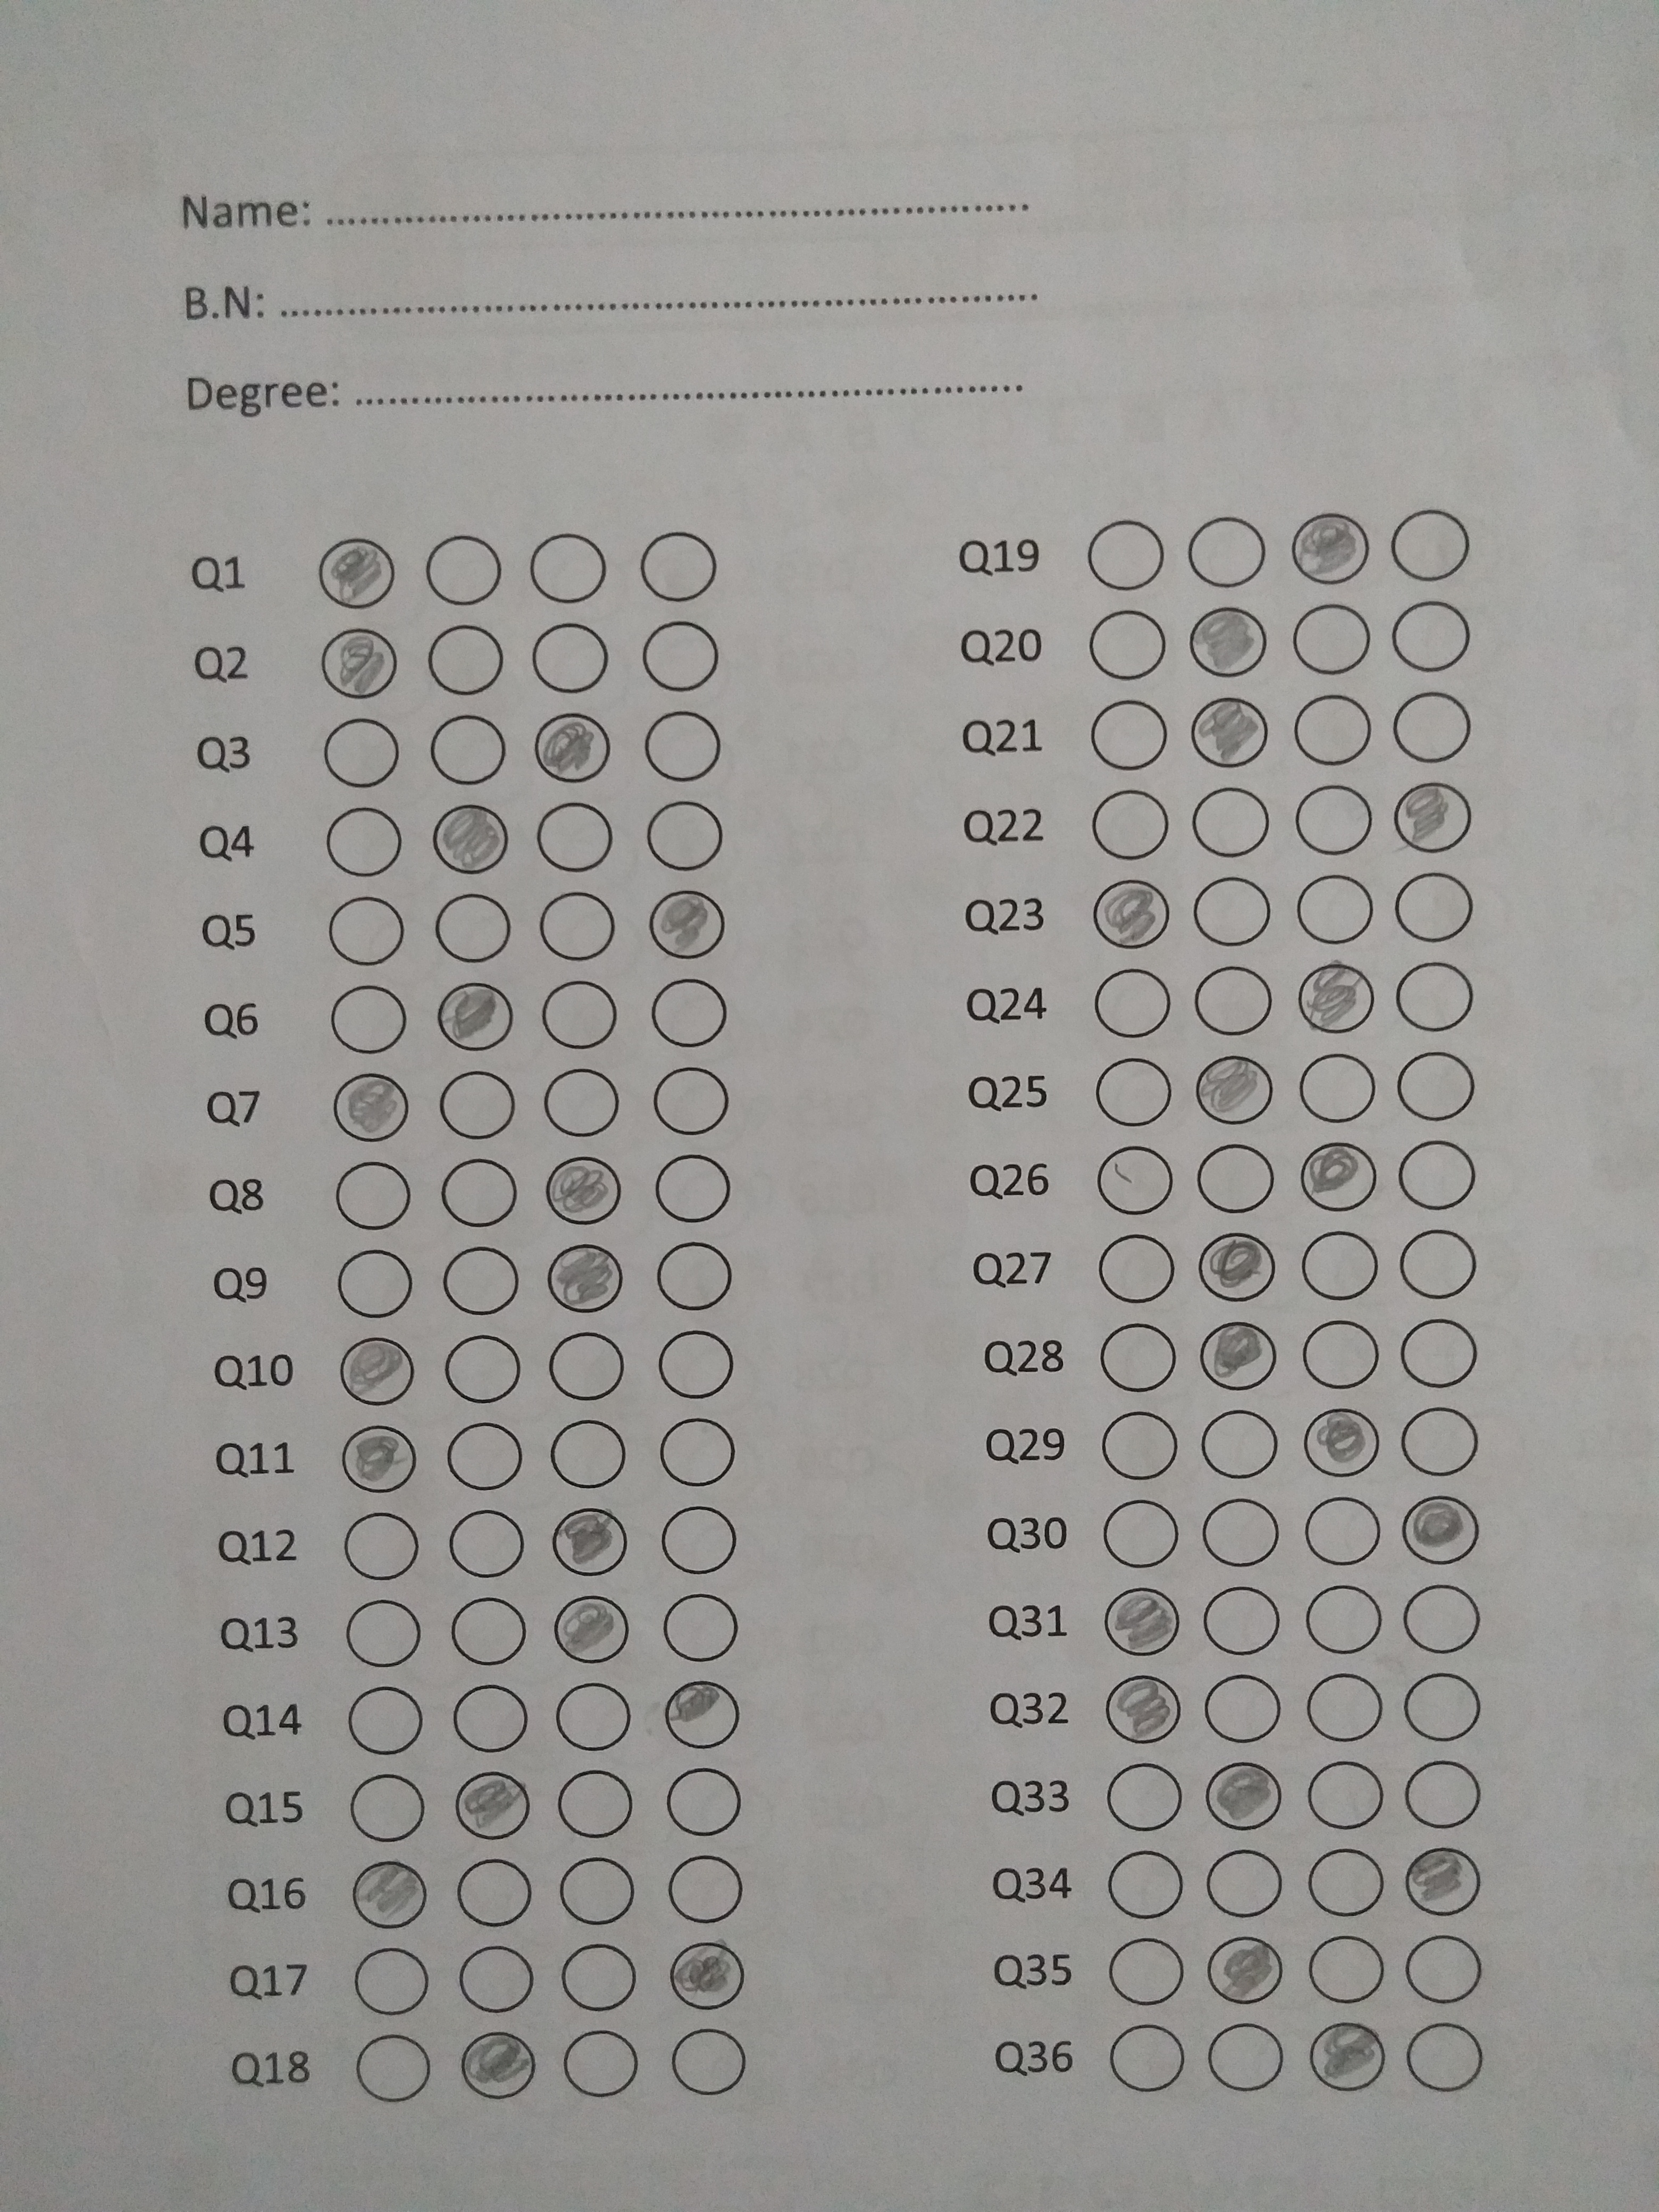not-c: (423, 531, 509, 611), (1387, 505, 1473, 585), (552, 1672, 638, 1752), (443, 1590, 528, 1670), (657, 1500, 742, 1580), (551, 1414, 636, 1494), (443, 1507, 528, 1587), (650, 1414, 735, 1494), (652, 1325, 737, 1406), (439, 1334, 525, 1414), (350, 1946, 436, 2026), (650, 1235, 735, 1315), (439, 1153, 525, 1233), (436, 1064, 521, 1144), (340, 1681, 425, 1761), (338, 1597, 423, 1677), (336, 1508, 422, 1588), (647, 972, 732, 1052), (538, 977, 624, 1057), (537, 887, 622, 967), (434, 885, 519, 965), (641, 709, 727, 789), (425, 707, 511, 787), (638, 617, 723, 697), (530, 618, 615, 698), (331, 1247, 416, 1327), (324, 981, 410, 1061), (321, 711, 406, 791), (634, 528, 720, 608), (526, 529, 612, 610), (1305, 1932, 1391, 2012), (1103, 1928, 1188, 2008), (1401, 2015, 1486, 2095), (1202, 2019, 1288, 2099), (1103, 2019, 1188, 2099), (453, 1940, 538, 2020), (554, 2024, 640, 2104), (669, 2026, 755, 2106), (666, 1850, 751, 1930), (556, 1855, 641, 1935), (457, 1855, 542, 1935), (659, 1763, 744, 1843), (1401, 1578, 1486, 1658), (1303, 1576, 1389, 1656), (1199, 1581, 1284, 1662), (1403, 1669, 1488, 1749), (1300, 1667, 1385, 1747), (1401, 1756, 1486, 1836), (1307, 1843, 1392, 1923), (1091, 1230, 1176, 1310), (1098, 1407, 1183, 1487), (1107, 1752, 1192, 1832), (1107, 1841, 1192, 1921), (1389, 690, 1474, 770), (1293, 691, 1378, 772), (1291, 782, 1377, 862), (1389, 954, 1474, 1035), (1394, 1047, 1480, 1127), (1089, 693, 1175, 773), (1396, 1134, 1481, 1214), (1194, 1139, 1279, 1219), (1300, 1224, 1385, 1305), (1399, 1402, 1485, 1482), (1197, 1406, 1283, 1486), (1298, 1493, 1384, 1573), (1201, 1493, 1286, 1573), (1185, 514, 1270, 594), (1389, 596, 1474, 676), (448, 1679, 532, 1759), (437, 1244, 521, 1324), (648, 1062, 732, 1143), (542, 1064, 626, 1144), (347, 1771, 430, 1851), (423, 618, 507, 698), (329, 1160, 413, 1240), (324, 1069, 408, 1150), (322, 799, 406, 880), (1204, 1839, 1288, 1919), (1094, 1322, 1178, 1402), (1291, 599, 1375, 679), (1190, 782, 1274, 862), (1391, 867, 1474, 948), (1190, 960, 1274, 1040), (1082, 510, 1166, 590), (1091, 963, 1175, 1043), (1396, 1317, 1480, 1397), (1302, 1313, 1385, 1393), (551, 1766, 636, 1844), (657, 1588, 742, 1667), (441, 1420, 526, 1498), (540, 1331, 626, 1409), (350, 2033, 436, 2111), (648, 1151, 734, 1230), (643, 798, 728, 876), (532, 798, 617, 876), (322, 894, 408, 972), (1401, 1930, 1486, 2008), (556, 1937, 641, 2015), (1303, 1754, 1389, 1832), (1096, 1498, 1182, 1576), (1082, 610, 1168, 688), (1293, 869, 1378, 948), (1190, 874, 1276, 953), (1297, 1047, 1382, 1125), (1091, 787, 1176, 866), (1091, 1050, 1176, 1129), (1093, 1139, 1178, 1217), (1396, 1226, 1481, 1305), (1204, 1670, 1288, 1749)
taken-c: (314, 535, 399, 611), (1290, 510, 1371, 589), (1309, 2019, 1392, 2095), (1399, 1489, 1480, 1566), (1197, 1317, 1277, 1393), (1197, 1228, 1277, 1305), (530, 709, 612, 784), (1188, 697, 1270, 772), (1295, 961, 1377, 1036), (1389, 784, 1474, 855), (319, 625, 399, 700), (1187, 606, 1267, 681), (1195, 1052, 1276, 1127), (544, 1240, 626, 1313), (1399, 1843, 1481, 1916), (1302, 1139, 1380, 1214), (1105, 1672, 1183, 1747), (457, 2027, 537, 2101), (1204, 1759, 1284, 1832), (1303, 1406, 1384, 1479), (1089, 881, 1173, 951), (648, 888, 727, 961), (436, 981, 514, 1054), (453, 1768, 532, 1841), (432, 805, 512, 876), (336, 1338, 416, 1409), (338, 1423, 418, 1494), (1101, 1585, 1182, 1656), (666, 1940, 744, 2012), (544, 1153, 624, 1223), (551, 1595, 631, 1665), (662, 1679, 742, 1749), (349, 1860, 429, 1930), (1206, 1935, 1284, 2005), (331, 1075, 411, 1143), (549, 1508, 627, 1576)
